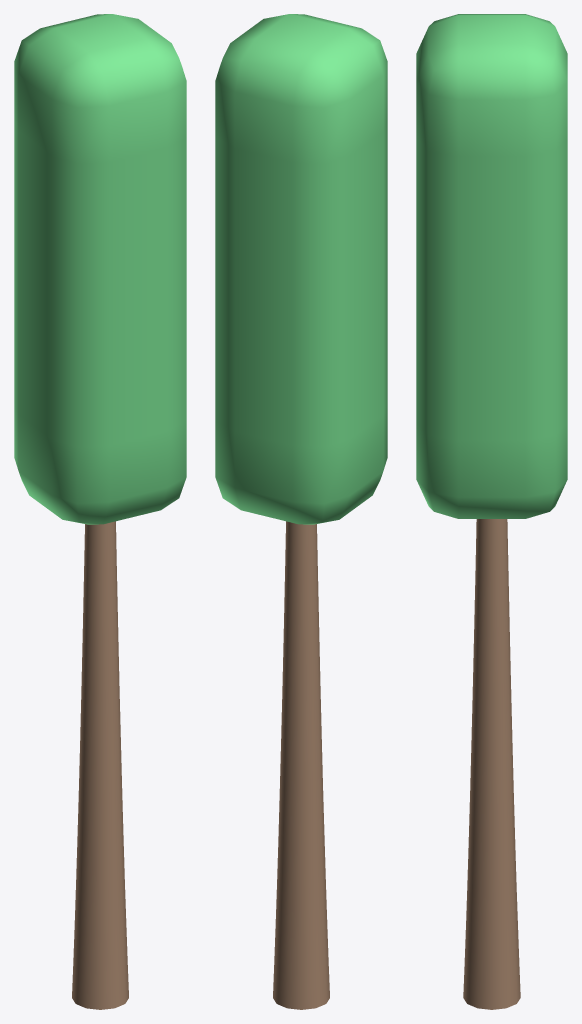
File: LowPoly-Tree-02_Tree_7_instanced.glb
3 views of the same model, side by side, from view 1: azimuth 30°, elevation 25°; view 2: azimuth 150°, elevation 25°; view 3: azimuth 270°, elevation 25° (orthographic).
Visible parts, largest first — view 1: Canopy, Trunk; view 2: Canopy, Trunk; view 3: Canopy, Trunk.
Part boxes in pixels (x1,y1,x2,y2): Canopy: (14, 14, 186, 524); Trunk: (72, 521, 128, 1009); Canopy: (215, 14, 387, 524); Trunk: (273, 521, 329, 1009); Canopy: (416, 14, 567, 518); Trunk: (463, 519, 520, 1009).
Bounding box in the file's own units: 0.211 × 1.49 × 0.211.
